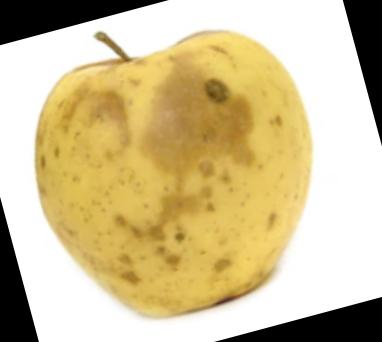Apple: (33, 28, 312, 318)
